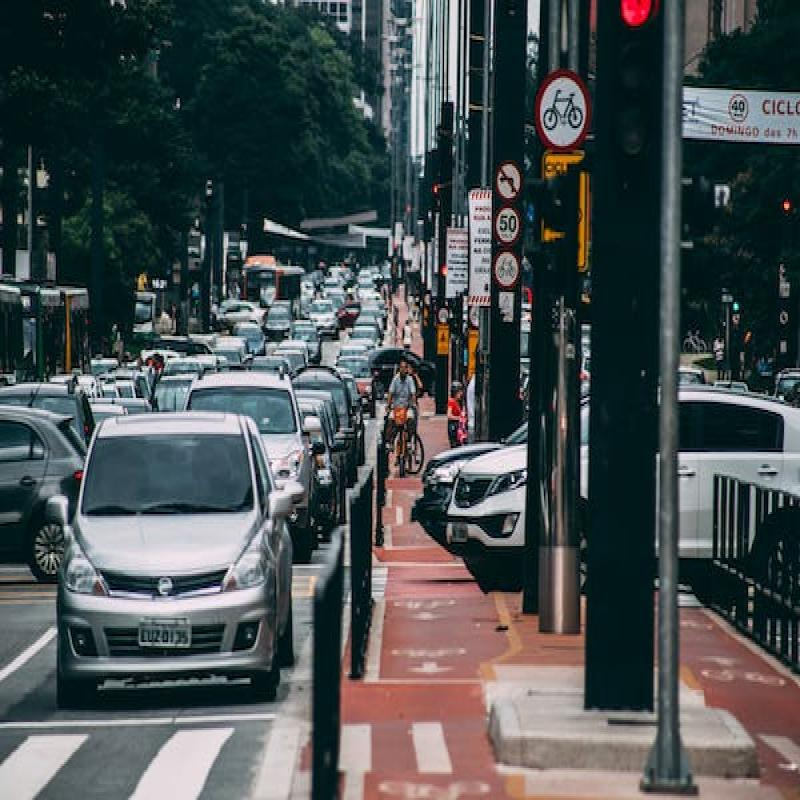car: (446, 351, 800, 606), (47, 404, 280, 697), (187, 369, 324, 539), (0, 370, 107, 566)
